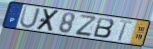8: (58, 12, 77, 34)
B: (92, 16, 116, 39)
T: (117, 19, 134, 42)
U: (18, 5, 42, 29)
X: (34, 9, 61, 33)
Z: (74, 14, 97, 37)
